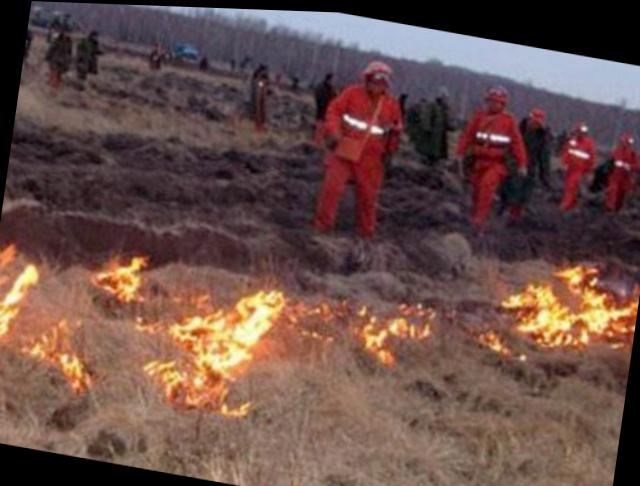fire: (138, 270, 288, 425), (474, 245, 639, 383), (309, 284, 449, 378), (24, 310, 100, 398), (0, 256, 41, 350), (95, 248, 147, 304)
